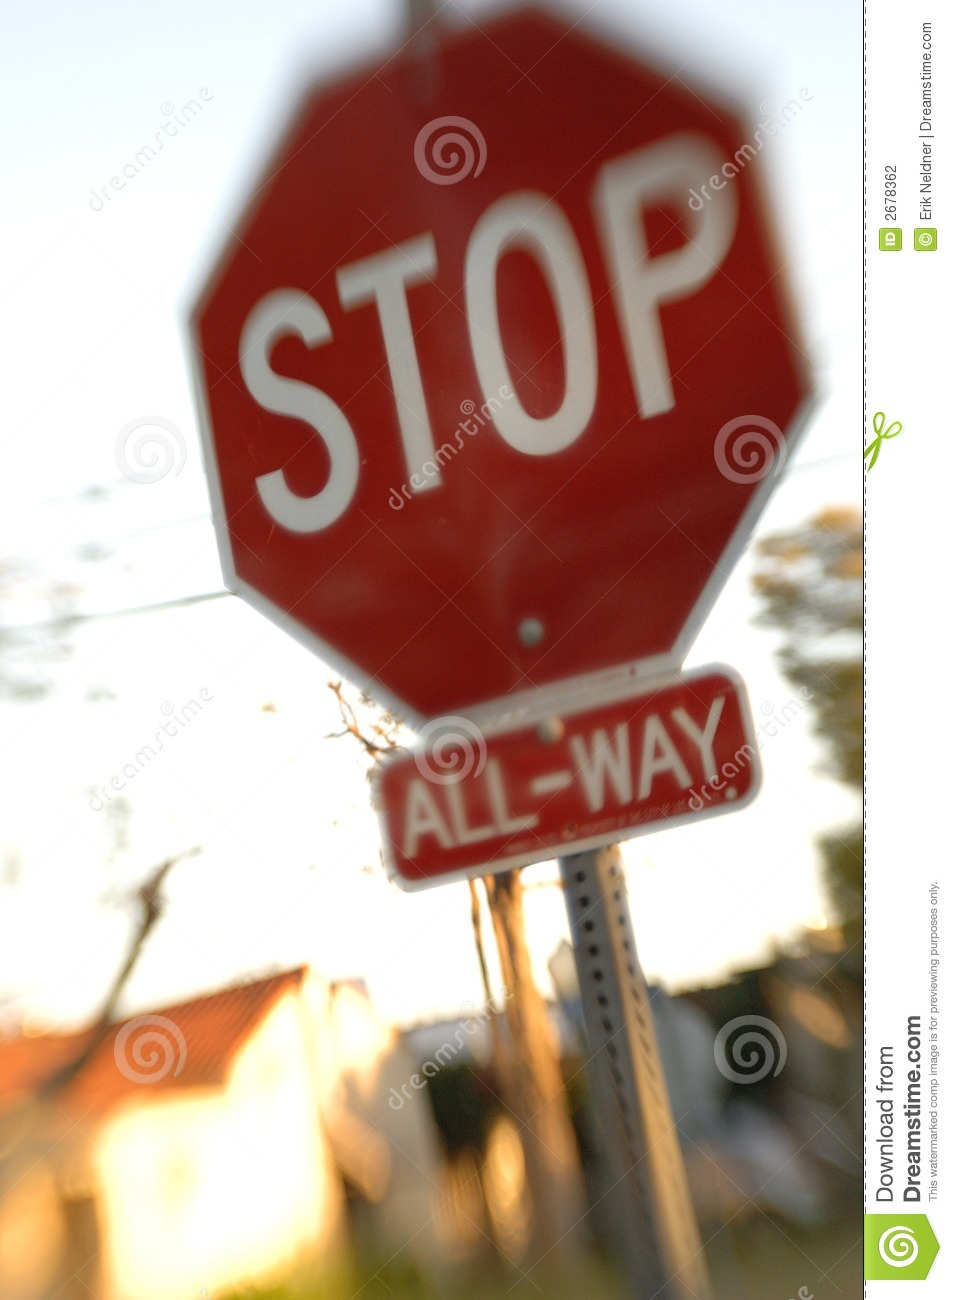stop: (205, 14, 801, 709), (279, 136, 676, 675), (209, 110, 567, 656), (440, 87, 806, 595), (218, 292, 756, 636), (386, 168, 721, 677), (202, 18, 793, 273)
